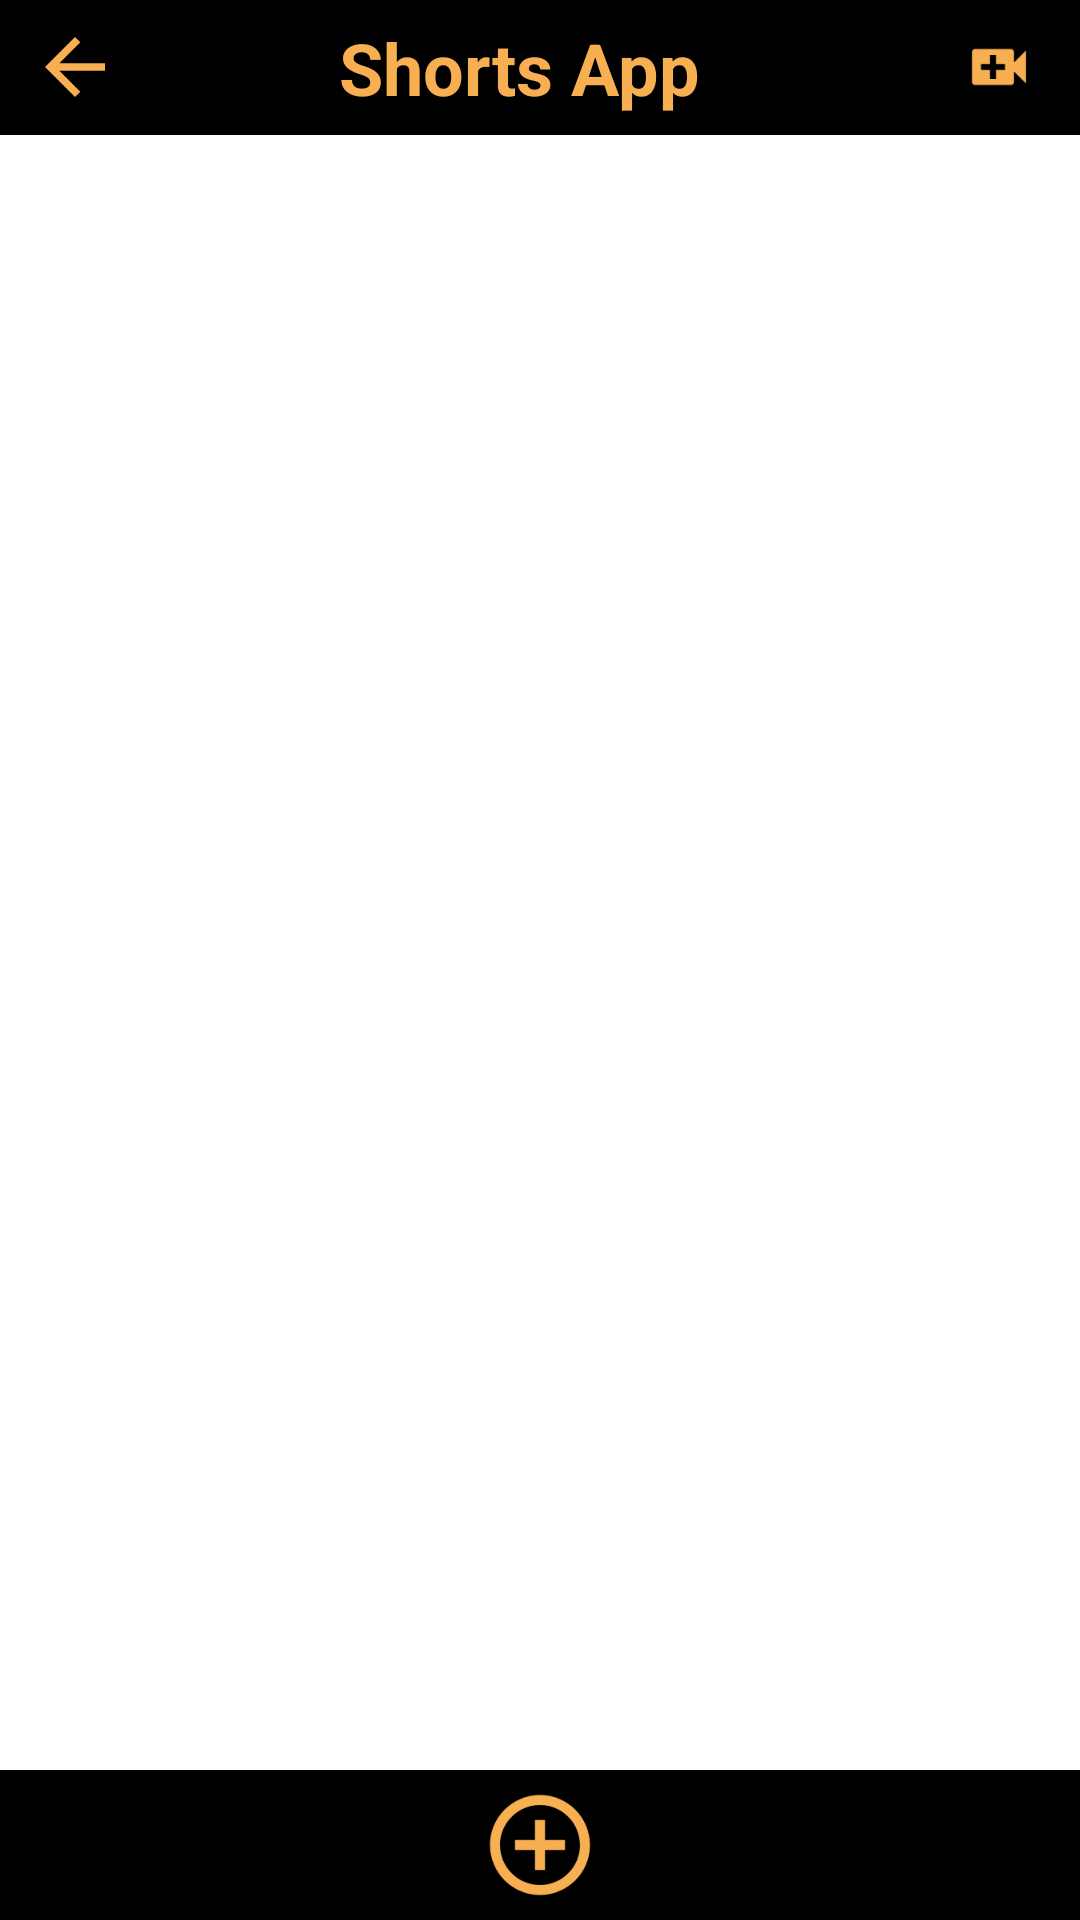

Locate icon controls on the screen. Image size 1080 x 1920, boxes as (x1, y1, x2, y2).
add: (489, 1794, 591, 1896)
back: (45, 37, 105, 97)
